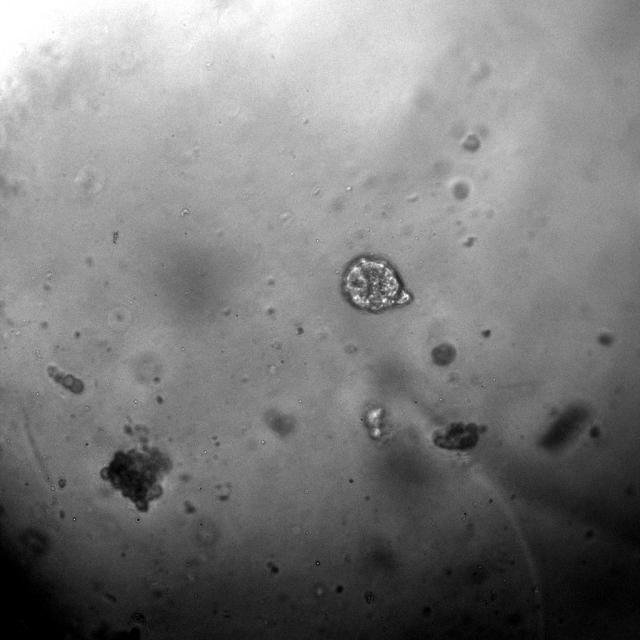organoid: (101, 448, 171, 511), (341, 254, 412, 313), (432, 422, 486, 451), (48, 364, 83, 394), (362, 405, 388, 440), (431, 342, 456, 366)
